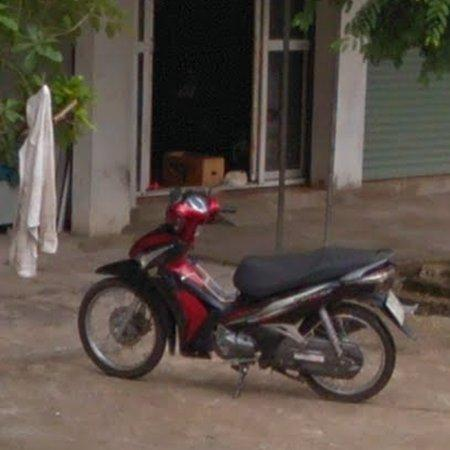motorcycles: (78, 193, 413, 402)
